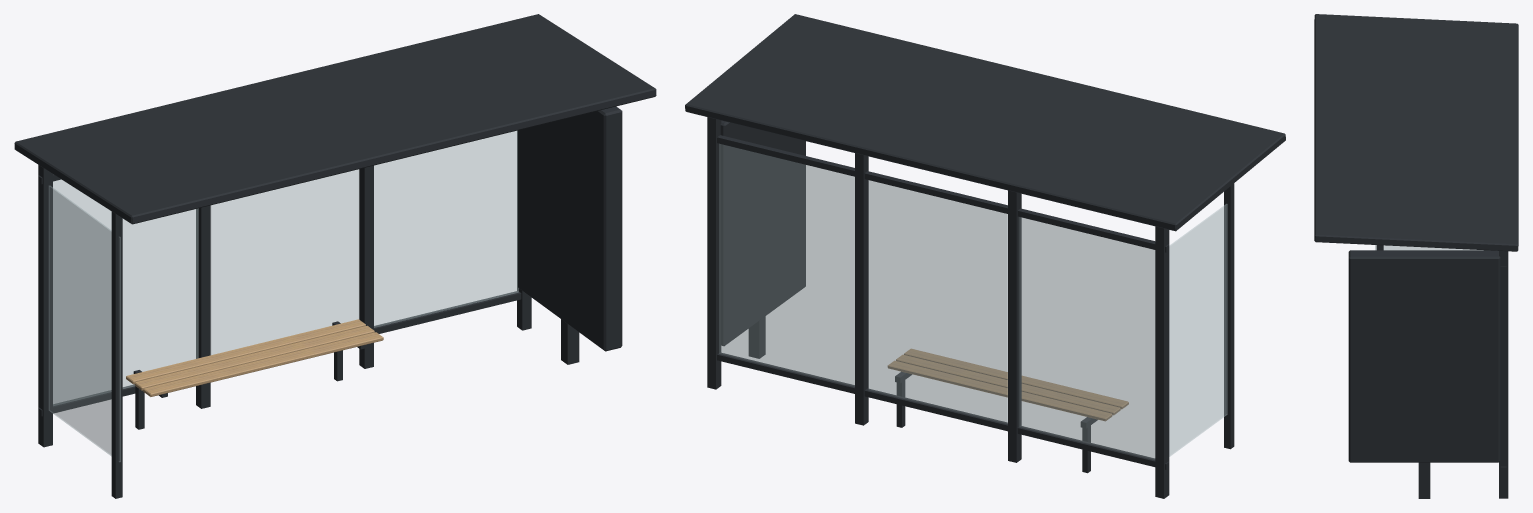
The model's file is bus-shelter.glb.
3 renders of one model, left to right at view 1: azimuth 30°, elevation 25°; view 2: azimuth 150°, elevation 25°; view 3: azimuth 270°, elevation 25°, orthographic. The views are drawn at different scales.
Parts seen in each view (by area): view 1: bus-shelter; view 2: bus-shelter; view 3: bus-shelter.
Part boxes in pixels (x1,y1,x2,y2): bus-shelter: (14, 14, 656, 498); bus-shelter: (685, 14, 1285, 498); bus-shelter: (1314, 14, 1518, 498).
Size of the model in its own units: 4.5 by 2.57 by 1.75.
4 materials, 1 textured.
